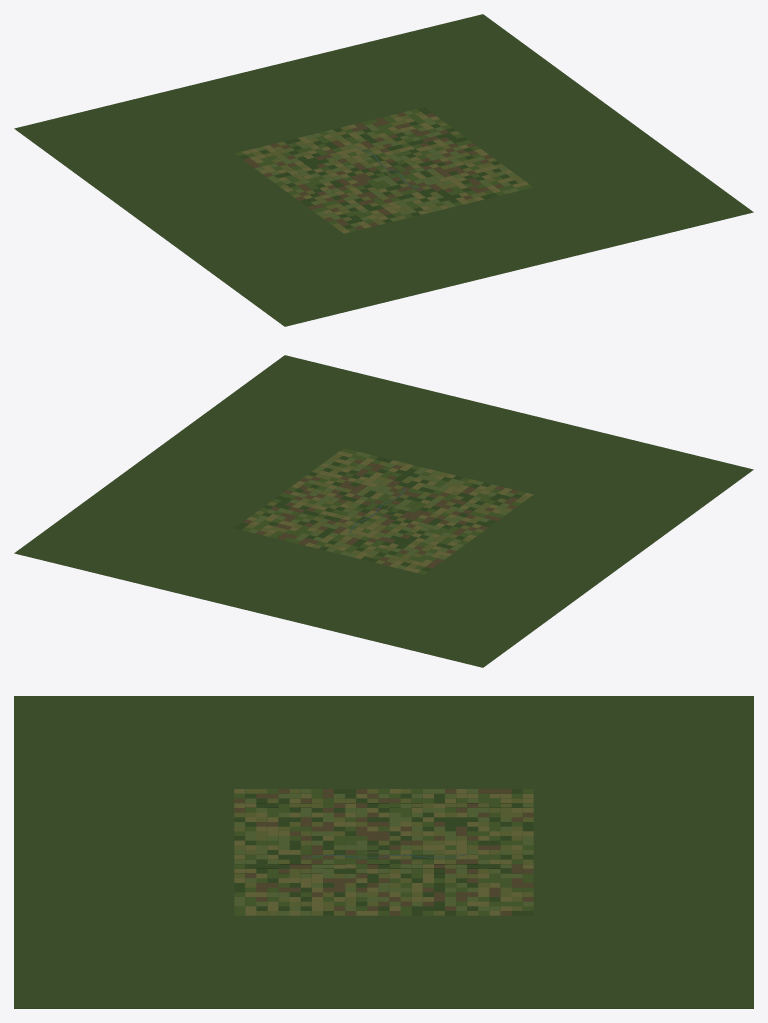
The model's file is PatrolLandscape.obj.
3 views of the same model, one above another, from view 1: azimuth 30°, elevation 25°; view 2: azimuth 150°, elevation 25°; view 3: azimuth 270°, elevation 25° (orthographic). The views are drawn at different scales.
Parts seen in each view (by area): view 1: PatrolLandscape; view 2: PatrolLandscape; view 3: PatrolLandscape.
Boxes of the visible parts, left/top/right/bottom form: PatrolLandscape: left=14, top=14, right=753, bottom=326; PatrolLandscape: left=14, top=355, right=753, bottom=667; PatrolLandscape: left=14, top=696, right=753, bottom=1008.
Bounding box in the file's own units: 40000 × 44 × 40000.
